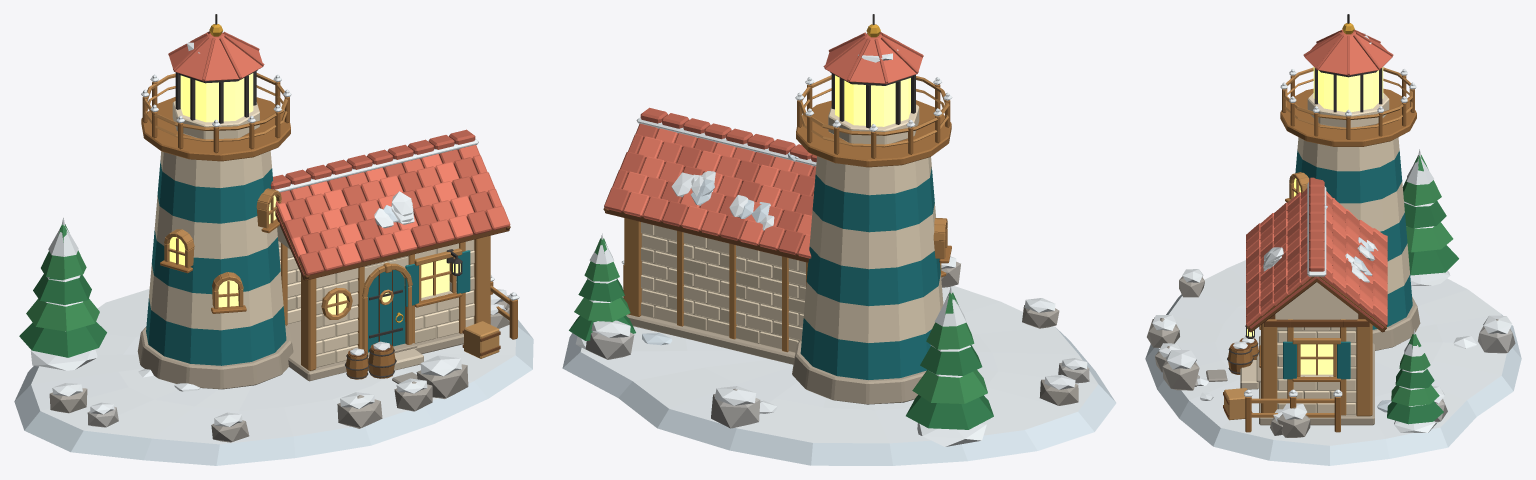
The model's file is lighthouse_loft_t2_exterior.glb.
3 views of the same model, side by side, from view 1: azimuth 30°, elevation 25°; view 2: azimuth 150°, elevation 25°; view 3: azimuth 270°, elevation 25° (orthographic). The views are drawn at different scales.
Parts seen in each view (by area): view 1: lighthouse_loft_t2_exterior, lighthouse_loft_t2_exterior_roof, part_crown__park.001, part_door_leaf; view 2: lighthouse_loft_t2_exterior, lighthouse_loft_t2_exterior_roof, part_crown__park.001, part_crown; view 3: lighthouse_loft_t2_exterior, lighthouse_loft_t2_exterior_roof, part_crown__park.001, part_crown.
Part boxes in pixels (box(x1,y1,x2,y2)): lighthouse_loft_t2_exterior: box(14, 73, 533, 465); lighthouse_loft_t2_exterior_roof: box(168, 14, 510, 280); part_crown__park.001: box(19, 217, 106, 357); part_door_leaf: box(367, 270, 405, 352); lighthouse_loft_t2_exterior: box(562, 75, 1116, 465); lighthouse_loft_t2_exterior_roof: box(603, 14, 923, 262); part_crown__park.001: box(906, 285, 993, 429); part_crown: box(569, 233, 635, 340); lighthouse_loft_t2_exterior: box(1145, 67, 1521, 465); lighthouse_loft_t2_exterior_roof: box(1246, 14, 1393, 332); part_crown__park.001: box(1402, 149, 1458, 275); part_crown: box(1387, 329, 1443, 424).
Bounding box in the file's own units: 9.67 × 6.81 × 7.14.
